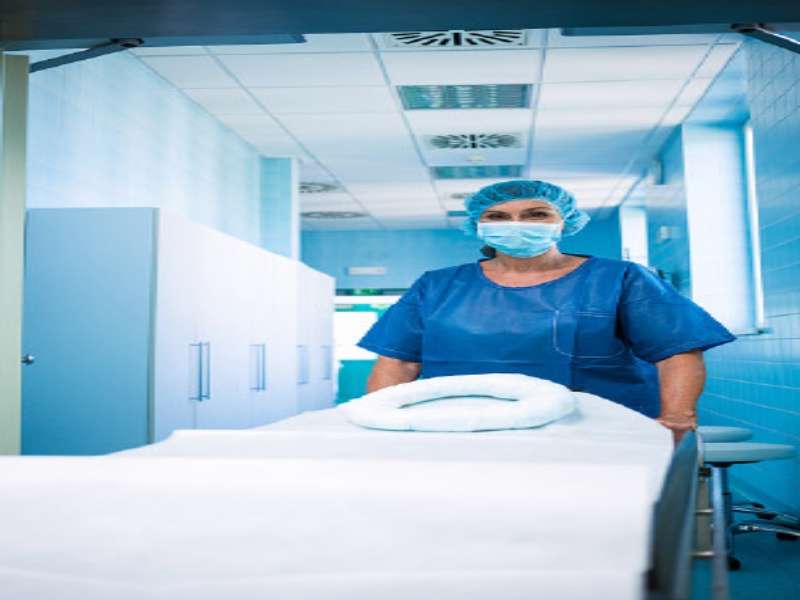mask: (459, 176, 589, 265)
